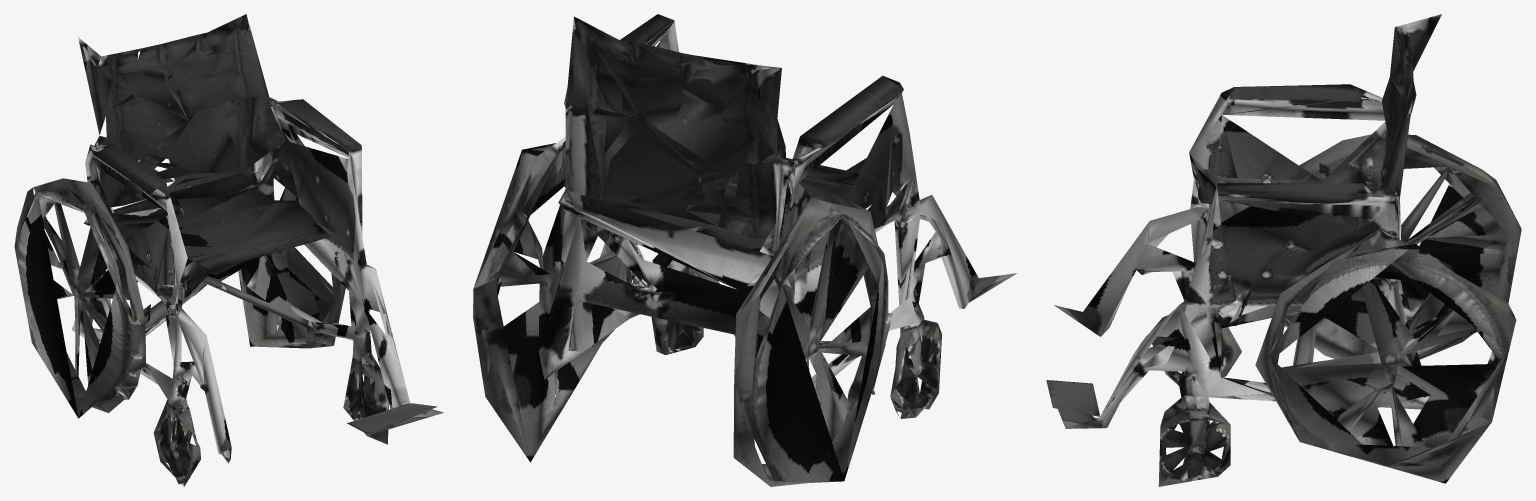
The model's file is wheelchair.glb.
3 views of the same model, side by side, from view 1: azimuth 30°, elevation 25°; view 2: azimuth 150°, elevation 25°; view 3: azimuth 270°, elevation 25° (orthographic). The views are drawn at different scales.
Visible parts, largest first — view 1: Model; view 2: Model; view 3: Model.
Boxes of the visible parts, left/top/right/bottom form: Model: left=14, top=14, right=443, bottom=486; Model: left=473, top=14, right=1017, bottom=486; Model: left=1046, top=14, right=1521, bottom=486.
Size of the model in its own units: 0.5995 by 0.892 by 0.9955.
Materials: 1 (1 with a texture image).
